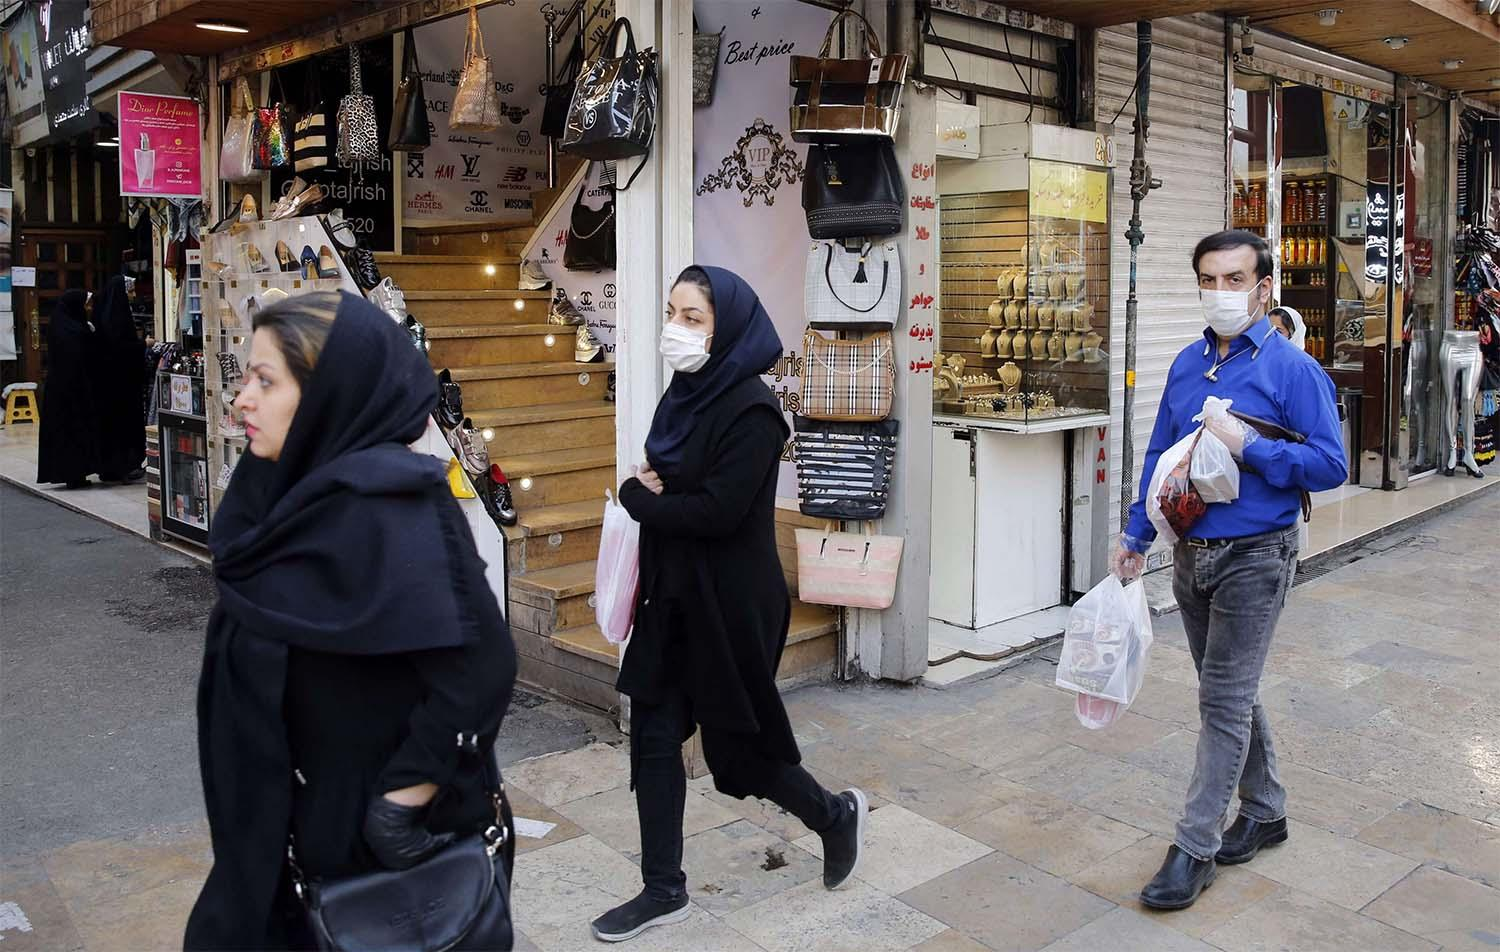Person: (173, 305, 526, 952), (608, 258, 861, 899), (1114, 235, 1343, 911)
